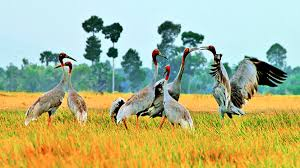seu_dau_do: (200, 43, 288, 121), (116, 49, 166, 131), (24, 53, 76, 129), (160, 65, 194, 137), (52, 60, 88, 122)
